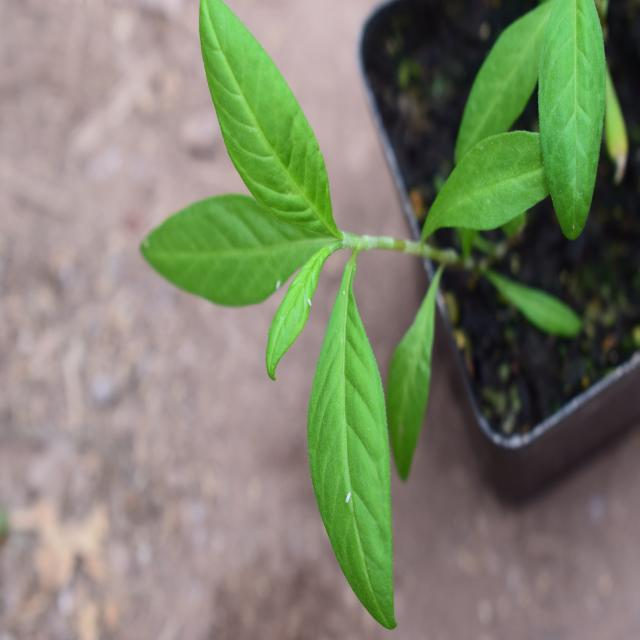white_smart_weed: (160, 0, 465, 624)
